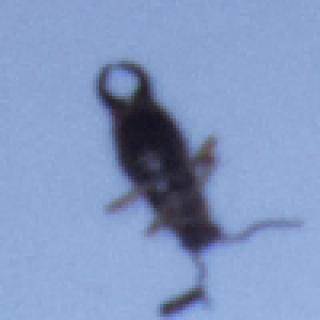earwig: (92, 54, 312, 318)
